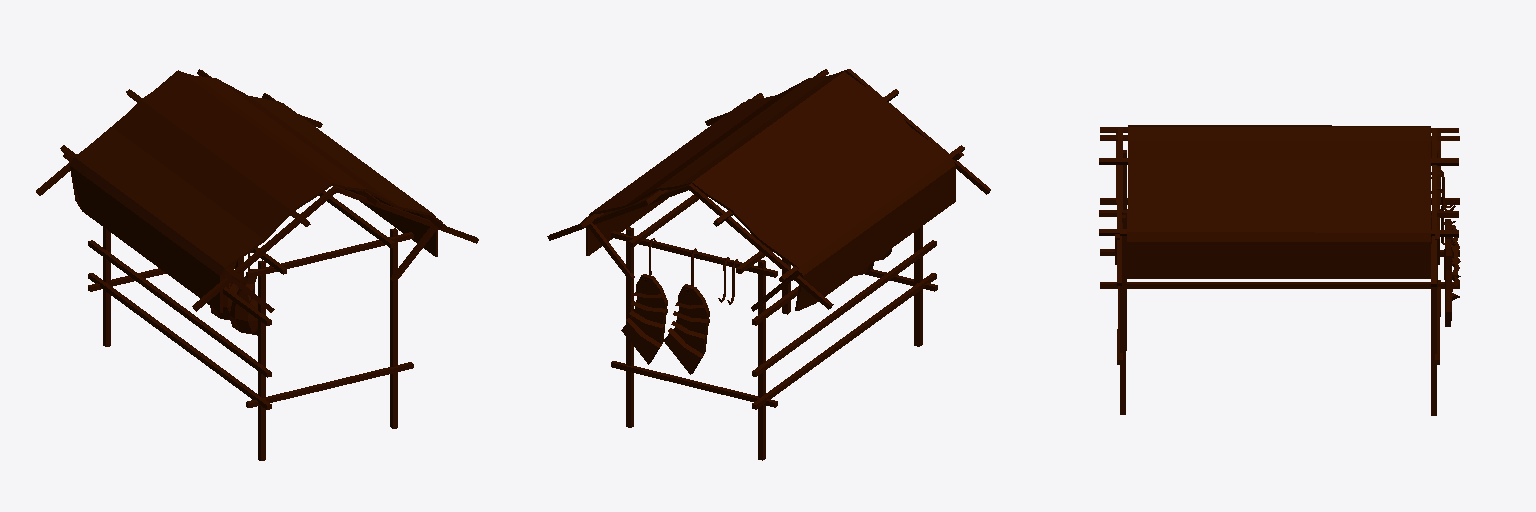
Rendered from stall_001.obj.
3 views of the same model, side by side, from view 1: azimuth 30°, elevation 25°; view 2: azimuth 150°, elevation 25°; view 3: azimuth 270°, elevation 25° (orthographic).
Parts seen in each view (by area): view 1: stall_001; view 2: stall_001; view 3: stall_001.
Boxes of the visible parts, x1=… form: stall_001: x1=36, y1=69, x2=478, y2=460; stall_001: x1=547, y1=69, x2=990, y2=460; stall_001: x1=1099, y1=125, x2=1460, y2=415.
Bounding box in the file's own units: 2.98 × 2.57 × 3.27.